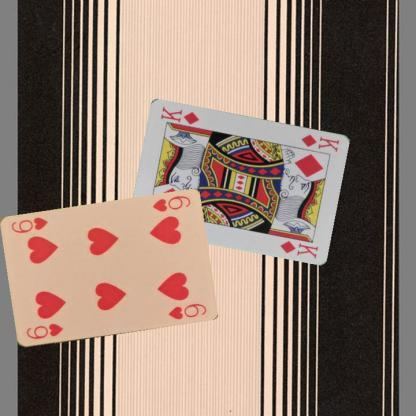6h: (150, 193, 192, 214), (24, 321, 64, 341)
Kd: (299, 131, 341, 153)
